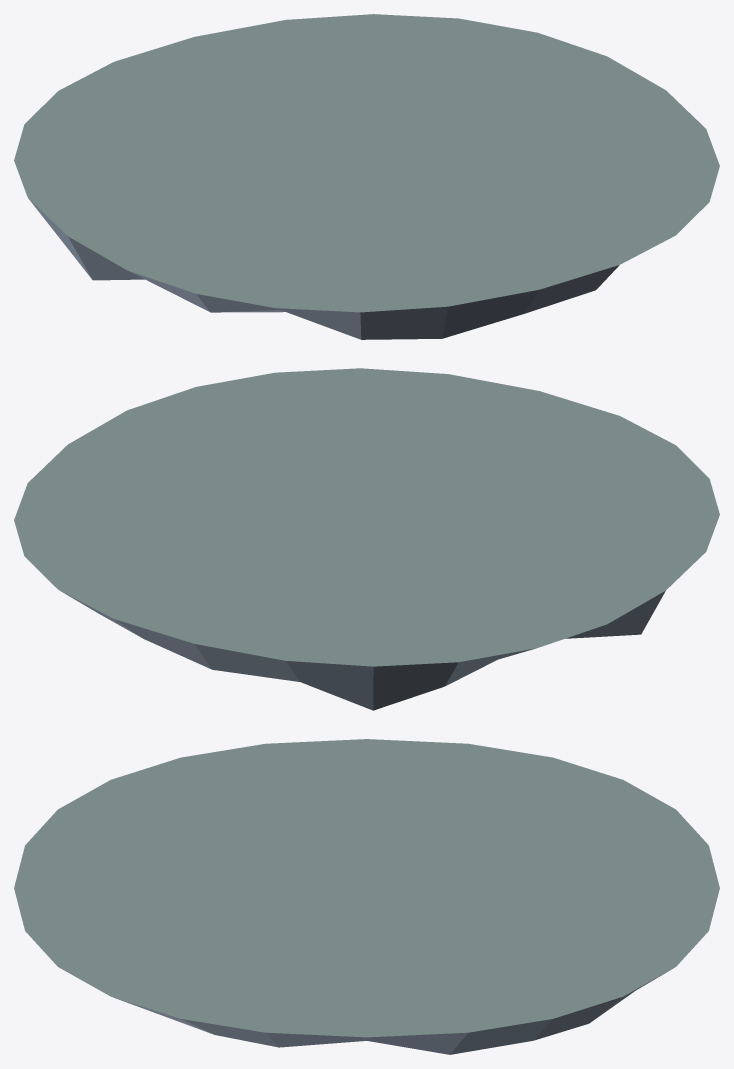
Rendered from Island_Frag_05.glb.
3 views of the same model, one above another, from view 1: azimuth 30°, elevation 25°; view 2: azimuth 150°, elevation 25°; view 3: azimuth 270°, elevation 25° (orthographic). The views are drawn at different scales.
Parts seen in each view (by area): view 1: Island_Frag_05; view 2: Island_Frag_05; view 3: Island_Frag_05.
Part boxes in pixels (x1,y1,x2,y2): Island_Frag_05: (14,14,719,339); Island_Frag_05: (14,368,719,710); Island_Frag_05: (14,739,719,1054).
Bounding box in the file's own units: 92 × 12.36 × 92.
